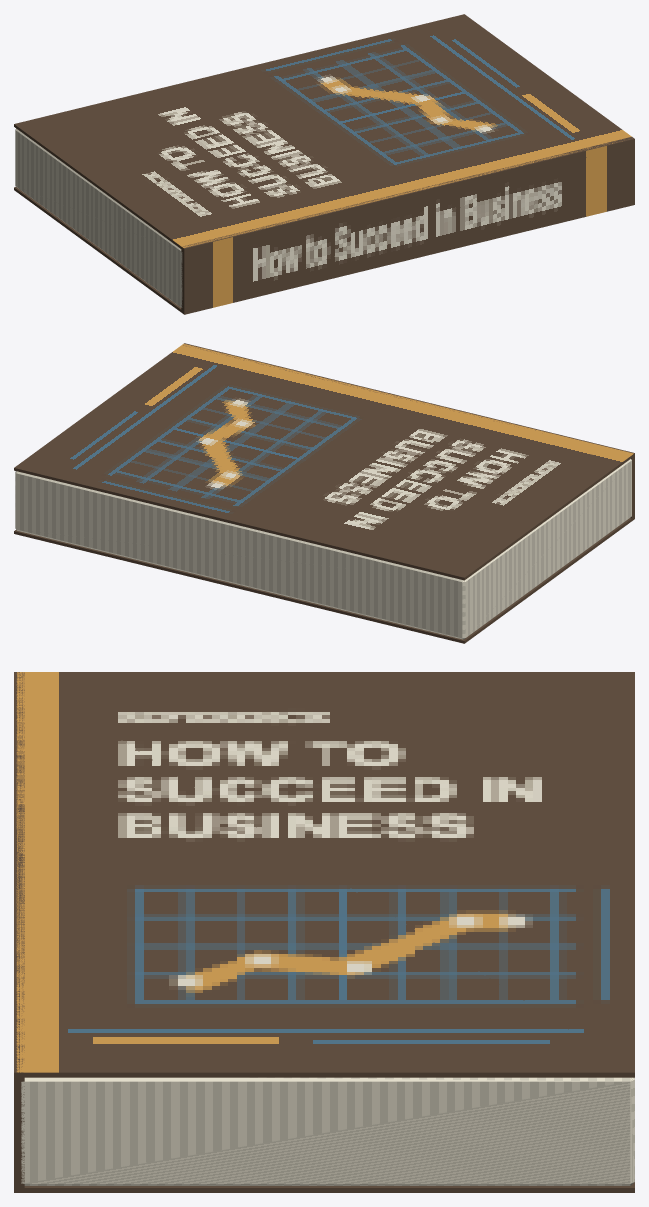
Rendered from manual_business.glb.
3 views of the same model, one above another, from view 1: azimuth 30°, elevation 25°; view 2: azimuth 150°, elevation 25°; view 3: azimuth 270°, elevation 25° (orthographic). The views are drawn at different scales.
Visible parts, largest first — view 1: block_front, block_spine, block_pages, block_back; view 2: block_front, block_pages, block_back, block_spine; view 3: block_front, block_pages, block_spine, block_back.
Boxes of the visible parts, left/top/right/bottom form: block_front: left=14, top=14, right=631, bottom=250; block_spine: left=181, top=137, right=634, bottom=314; block_pages: left=15, top=128, right=182, bottom=307; block_back: left=14, top=187, right=183, bottom=313; block_front: left=14, top=344, right=634, bottom=580; block_pages: left=15, top=459, right=631, bottom=639; block_back: left=14, top=517, right=634, bottom=643; block_spine: left=183, top=343, right=634, bottom=519; block_front: left=16, top=672, right=634, bottom=1077; block_pages: left=21, top=1077, right=634, bottom=1185; block_spine: left=14, top=672, right=24, bottom=1192; block_back: left=16, top=1182, right=634, bottom=1192.
Bounding box in the file's own units: 0.2244 × 0.0314 × 0.147.
Materials: 1 (1 with a texture image).
